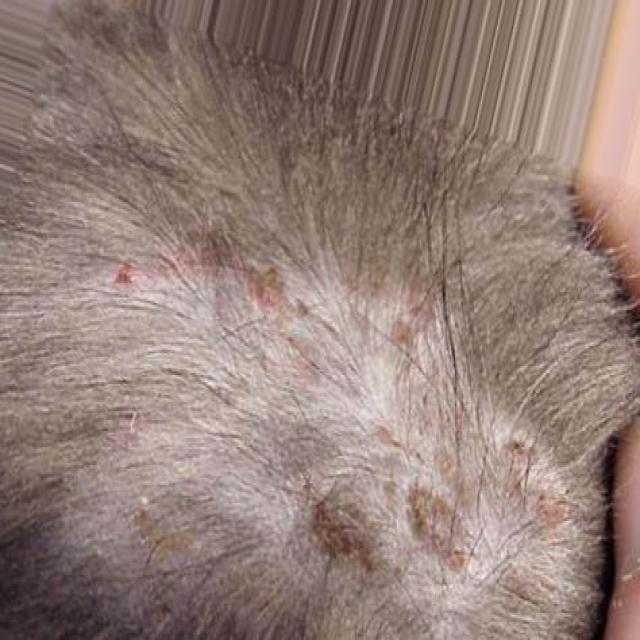di ung bo chet: (31, 132, 560, 640)
